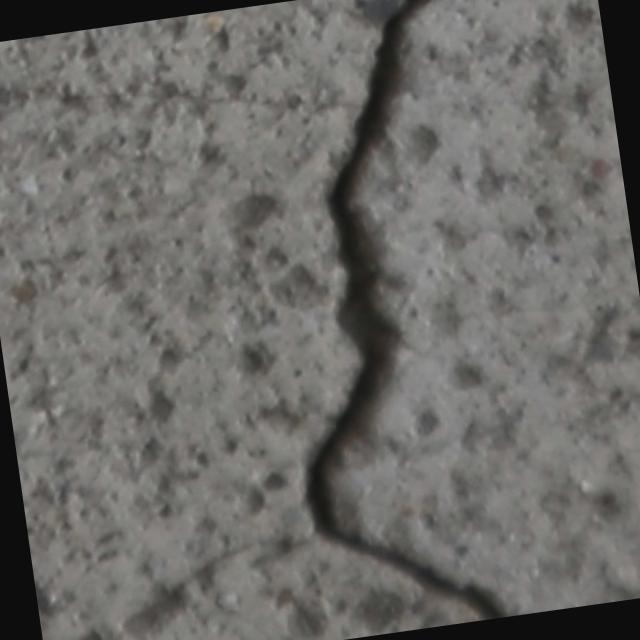crack: (231, 0, 546, 640), (56, 50, 351, 156), (116, 531, 320, 640)
